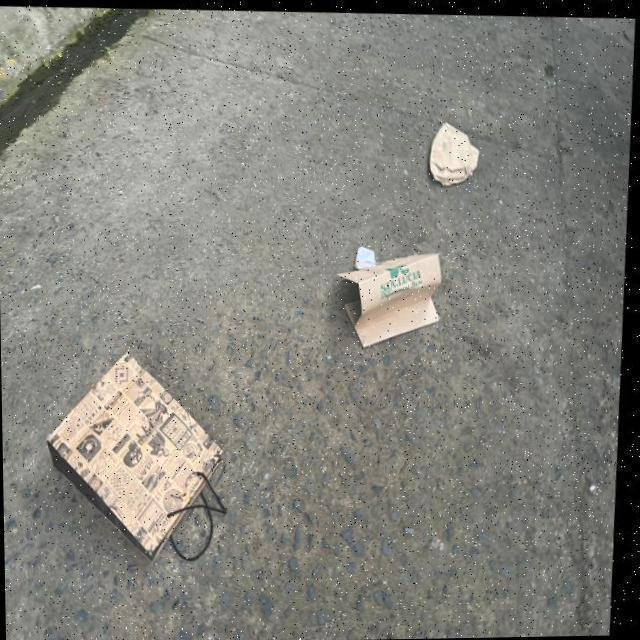Paper_Bag: (48, 352, 242, 566), (340, 236, 449, 343), (431, 114, 483, 183)
